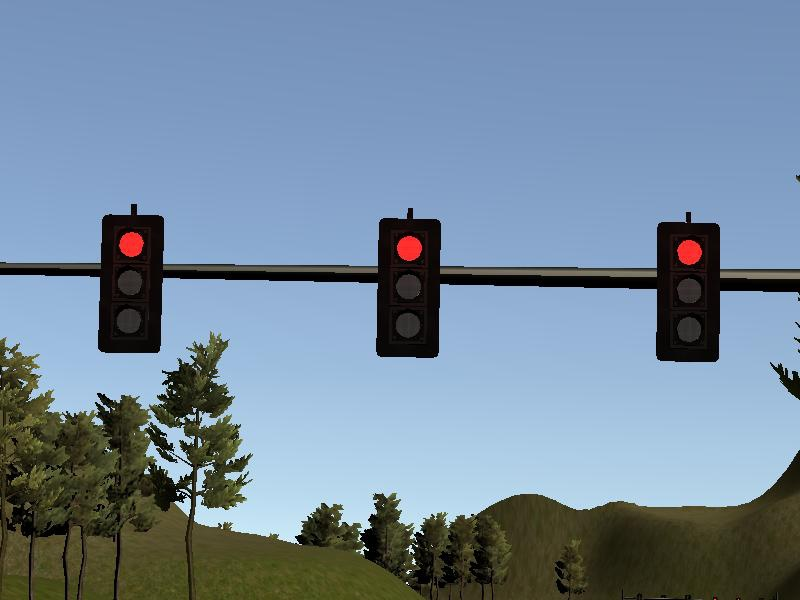red: (655, 222, 723, 362), (378, 217, 442, 359), (100, 215, 163, 354)
